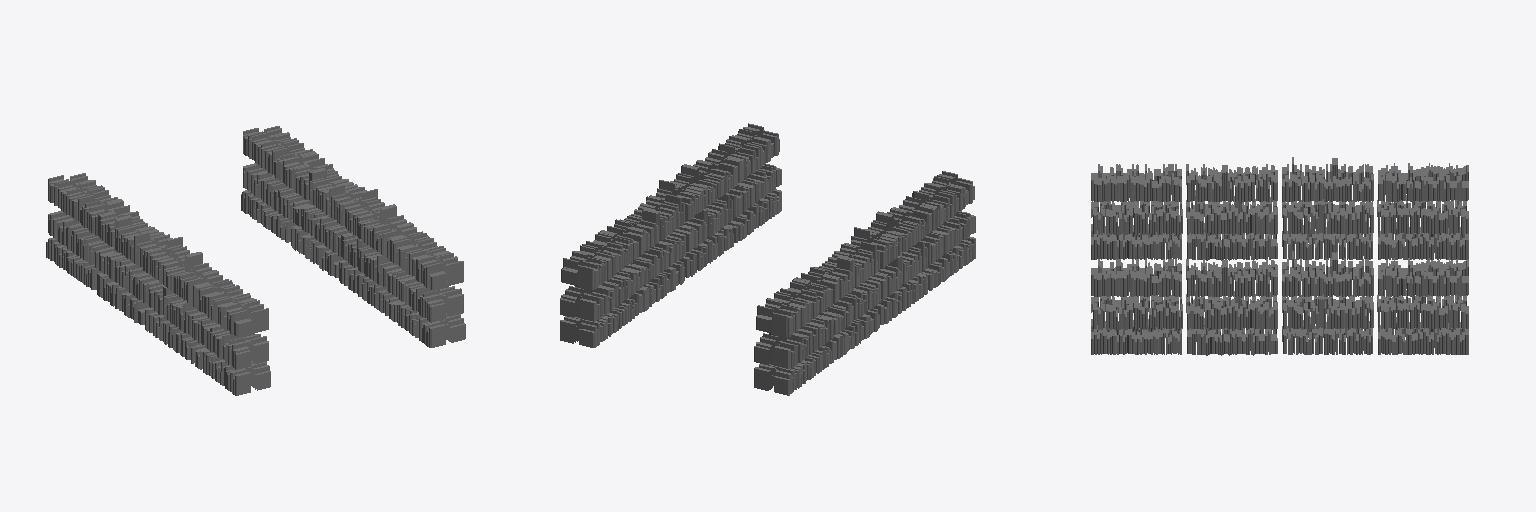
File: Export_1_Kids_Books_1.obj
The picture shows the model from 3 angles: view 1: azimuth 30°, elevation 25°; view 2: azimuth 150°, elevation 25°; view 3: azimuth 270°, elevation 25°; orthographic projection.
Visible parts, largest first — view 1: shelves_Kids ROOM_Kids back2BackShelf2 bookShelf18 shelfGroup2 b, shelfGroup2 back2BackShelf1 shelves_Kids ROOM_Kids bookShelf18 b, shelves_Kids ROOM_Kids back2BackShelf2 shelfGroup2 bookShelf16 b, shelfGroup2 back2BackShelf1 shelves_Kids ROOM_Kids bookShelf15 b, shelves_Kids ROOM_Kids back2BackShelf2 shelfGroup2 bookShelf15 b, shelfGroup2 back2BackShelf1 shelves_Kids ROOM_Kids bookShelf17 b, bookShelf16 shelfGroup2 back2BackShelf1 shelves_Kids ROOM_Kids b, shelves_Kids ROOM_Kids back2BackShelf2 shelfGroup2 bookShelf17 b, bookRow_11 bookShelf16 shelfGroup2 back2BackShelf1 shelves_Kids , shelfGroup2 back2BackShelf1 shelves_Kids ROOM_Kids bookRow_4 boo, shelves_Kids ROOM_Kids shelfGroup1 back2BackShelf2 bookShelf15 b, shelfGroup2 back2BackShelf1 shelves_Kids ROOM_Kids bookRow_1 boo (+14 smaller); view 2: shelfGroup2 back2BackShelf1 shelves_Kids ROOM_Kids bookShelf15 b, shelves_Kids ROOM_Kids back2BackShelf2 shelfGroup2 bookShelf15 b, shelves_Kids ROOM_Kids back2BackShelf2 shelfGroup2 bookShelf16 b, shelves_Kids ROOM_Kids back2BackShelf2 shelfGroup2 bookShelf17 b, shelfGroup2 back2BackShelf1 shelves_Kids ROOM_Kids bookShelf17 b, bookShelf16 shelfGroup2 back2BackShelf1 shelves_Kids ROOM_Kids b, shelfGroup2 back2BackShelf1 shelves_Kids ROOM_Kids bookShelf18 b, shelves_Kids ROOM_Kids back2BackShelf2 bookShelf18 shelfGroup2 b, bookRow_11 bookShelf16 shelfGroup2 back2BackShelf1 shelves_Kids , shelves_Kids ROOM_Kids back2BackShelf2 shelfGroup2 bookRow_9 boo, shelves_Kids ROOM_Kids back2BackShelf2 shelfGroup2 bookRow_1 boo, shelves_Kids ROOM_Kids back2BackShelf2 shelfGroup2 bookRow_10 bo (+14 smaller); view 3: shelves_Kids ROOM_Kids shelfGroup1 back2BackShelf2 bookShelf15 b, back2BackShelf1 shelves_Kids ROOM_Kids shelfGroup1 bookShelf15 b, shelves_Kids ROOM_Kids shelfGroup1 back2BackShelf2 bookShelf16 b, shelves_Kids ROOM_Kids bookShelf18 shelfGroup1 back2BackShelf2 b, back2BackShelf1 shelves_Kids ROOM_Kids bookShelf16 shelfGroup1 b, back2BackShelf1 shelves_Kids ROOM_Kids shelfGroup1 bookShelf18 b, shelves_Kids ROOM_Kids shelfGroup1 back2BackShelf2 bookShelf17 b, back2BackShelf1 shelves_Kids ROOM_Kids shelfGroup1 bookShelf17 b, back2BackShelf1 shelves_Kids ROOM_Kids bookRow_11 bookShelf16 sh, shelves_Kids ROOM_Kids shelfGroup1 back2BackShelf2 bookRow_10 bo, back2BackShelf1 shelves_Kids ROOM_Kids shelfGroup1 bookRow_4 boo, shelves_Kids ROOM_Kids bookRow_4 bookShelf18 shelfGroup1 back2Ba (+20 smaller).
Part boxes in pixels (bbox=[...]): shelves_Kids ROOM_Kids back2BackShelf2 bookShelf18 shelfGroup2 b: bbox=[385, 265, 445, 347]; shelfGroup2 back2BackShelf1 shelves_Kids ROOM_Kids bookShelf18 b: bbox=[191, 313, 250, 395]; shelves_Kids ROOM_Kids back2BackShelf2 shelfGroup2 bookShelf16 b: bbox=[289, 164, 350, 277]; shelfGroup2 back2BackShelf1 shelves_Kids ROOM_Kids bookShelf15 b: bbox=[46, 175, 105, 289]; shelves_Kids ROOM_Kids back2BackShelf2 shelfGroup2 bookShelf15 b: bbox=[242, 128, 299, 242]; shelfGroup2 back2BackShelf1 shelves_Kids ROOM_Kids bookShelf17 b: bbox=[143, 280, 202, 359]; bookShelf16 shelfGroup2 back2BackShelf1 shelves_Kids ROOM_Kids b: bbox=[95, 247, 154, 324]; shelves_Kids ROOM_Kids back2BackShelf2 shelfGroup2 bookShelf17 b: bbox=[338, 232, 396, 312]; bookRow_11 bookShelf16 shelfGroup2 back2BackShelf1 shelves_Kids : bbox=[95, 211, 156, 266]; shelfGroup2 back2BackShelf1 shelves_Kids ROOM_Kids bookRow_4 boo: bbox=[193, 282, 252, 336]; shelves_Kids ROOM_Kids shelfGroup1 back2BackShelf2 bookShelf15 b: bbox=[406, 231, 465, 342]; shelfGroup2 back2BackShelf1 shelves_Kids ROOM_Kids bookRow_1 boo: bbox=[144, 248, 202, 302]; shelfGroup2 back2BackShelf1 shelves_Kids ROOM_Kids bookShelf15 b: bbox=[772, 283, 833, 395]; shelves_Kids ROOM_Kids back2BackShelf2 shelfGroup2 bookShelf15 b: bbox=[578, 235, 638, 346]; shelves_Kids ROOM_Kids back2BackShelf2 shelfGroup2 bookShelf16 b: bbox=[627, 194, 684, 312]; shelves_Kids ROOM_Kids back2BackShelf2 shelfGroup2 bookShelf17 b: bbox=[675, 194, 733, 277]; shelfGroup2 back2BackShelf1 shelves_Kids ROOM_Kids bookShelf17 b: bbox=[869, 241, 927, 324]; bookShelf16 shelfGroup2 back2BackShelf1 shelves_Kids ROOM_Kids b: bbox=[820, 280, 880, 359]; shelfGroup2 back2BackShelf1 shelves_Kids ROOM_Kids bookShelf18 b: bbox=[921, 211, 975, 290]; shelves_Kids ROOM_Kids back2BackShelf2 bookShelf18 shelfGroup2 b: bbox=[726, 163, 781, 242]; bookRow_11 bookShelf16 shelfGroup2 back2BackShelf1 shelves_Kids : bbox=[821, 241, 879, 302]; shelves_Kids ROOM_Kids back2BackShelf2 shelfGroup2 bookRow_9 boo: bbox=[580, 268, 639, 321]; shelves_Kids ROOM_Kids back2BackShelf2 shelfGroup2 bookRow_1 boo: bbox=[677, 163, 734, 219]; shelves_Kids ROOM_Kids back2BackShelf2 shelfGroup2 bookRow_10 bo: bbox=[626, 232, 685, 287]; shelves_Kids ROOM_Kids shelfGroup1 back2BackShelf2 bookShelf15 b: bbox=[1091, 266, 1181, 354]; back2BackShelf1 shelves_Kids ROOM_Kids shelfGroup1 bookShelf15 b: bbox=[1091, 171, 1181, 259]; shelves_Kids ROOM_Kids shelfGroup1 back2BackShelf2 bookShelf16 b: bbox=[1187, 260, 1277, 355]; shelves_Kids ROOM_Kids bookShelf18 shelfGroup1 back2BackShelf2 b: bbox=[1378, 298, 1468, 354]; back2BackShelf1 shelves_Kids ROOM_Kids bookShelf16 shelfGroup1 b: bbox=[1187, 205, 1277, 260]; back2BackShelf1 shelves_Kids ROOM_Kids shelfGroup1 bookShelf18 b: bbox=[1378, 203, 1468, 259]; shelves_Kids ROOM_Kids shelfGroup1 back2BackShelf2 bookShelf17 b: bbox=[1283, 294, 1373, 354]; back2BackShelf1 shelves_Kids ROOM_Kids shelfGroup1 bookShelf17 b: bbox=[1283, 199, 1373, 259]; back2BackShelf1 shelves_Kids ROOM_Kids bookRow_11 bookShelf16 sh: bbox=[1187, 165, 1277, 201]; shelves_Kids ROOM_Kids shelfGroup1 back2BackShelf2 bookRow_10 bo: bbox=[1187, 299, 1277, 329]; back2BackShelf1 shelves_Kids ROOM_Kids shelfGroup1 bookRow_4 boo: bbox=[1378, 173, 1468, 201]; shelves_Kids ROOM_Kids bookRow_4 bookShelf18 shelfGroup1 back2Ba: bbox=[1378, 268, 1465, 296].
Size of the model in its own units: 40.3 by 14.37 by 56.75.